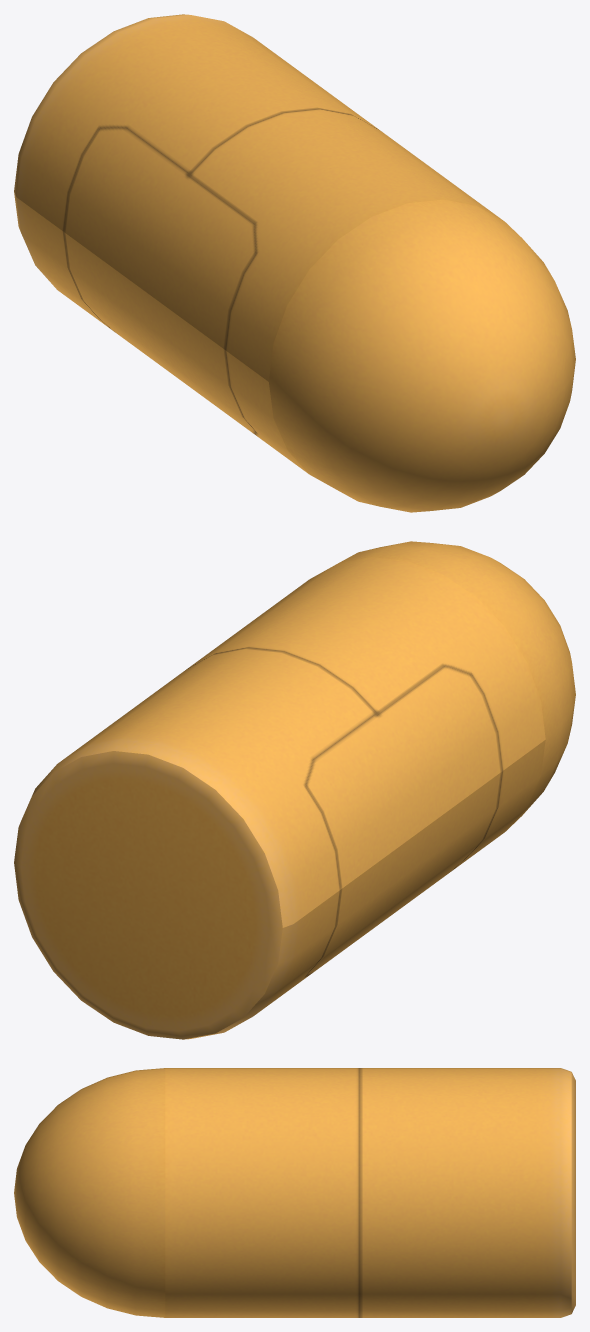
File: SM_Armour_Capsule_Arm.fbx
The picture shows the model from 3 angles, top to bottom: view 1: azimuth 30°, elevation 25°; view 2: azimuth 150°, elevation 25°; view 3: azimuth 270°, elevation 25°; orthographic projection. The views are drawn at different scales.
Parts seen in each view (by area): view 1: SM_Armour_Capsule_Arm; view 2: SM_Armour_Capsule_Arm; view 3: SM_Armour_Capsule_Arm.
Part boxes in pixels (x1,y1,x2,y2): SM_Armour_Capsule_Arm: (14,14,575,512); SM_Armour_Capsule_Arm: (14,541,575,1039); SM_Armour_Capsule_Arm: (14,1068,575,1317).
Bounding box in the file's own units: 23.64 × 23.64 × 52.97.
Materials: 1 (1 with a texture image).
